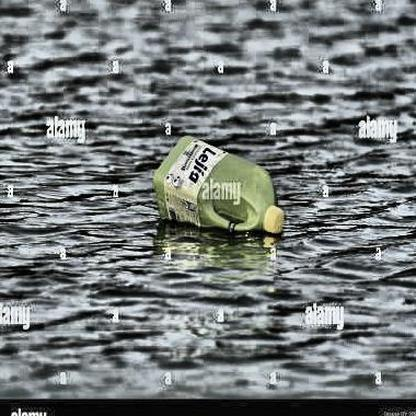plastic bottle: (154, 132, 285, 236)
